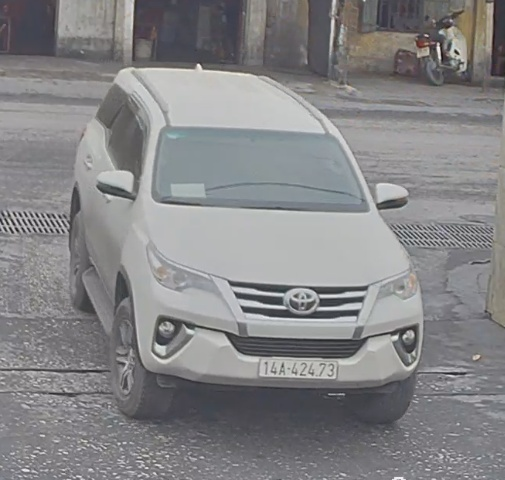vehicle plate: (255, 349, 342, 382)
